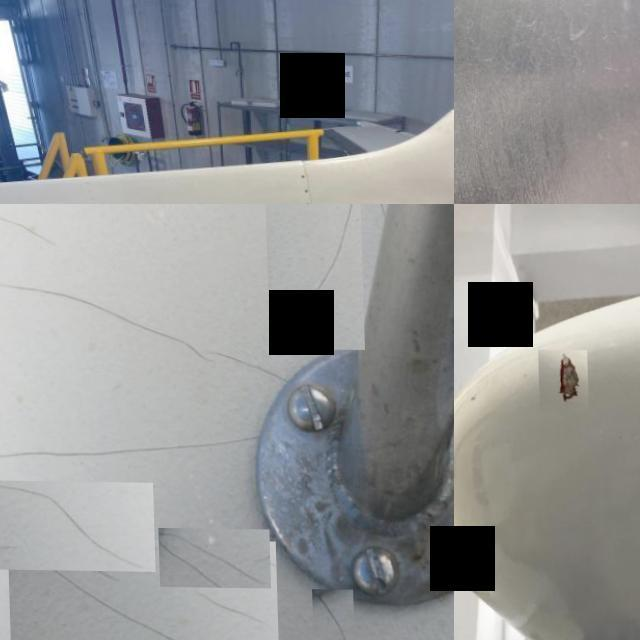Crack: (0, 278, 289, 379), (6, 538, 190, 640), (0, 481, 153, 571), (269, 204, 358, 348), (0, 430, 260, 465), (157, 527, 268, 587), (15, 585, 95, 625), (537, 348, 587, 412), (0, 211, 59, 249), (310, 589, 348, 640), (125, 545, 172, 563)
Missing_Fastener: (300, 174, 304, 178), (304, 202, 309, 204)
